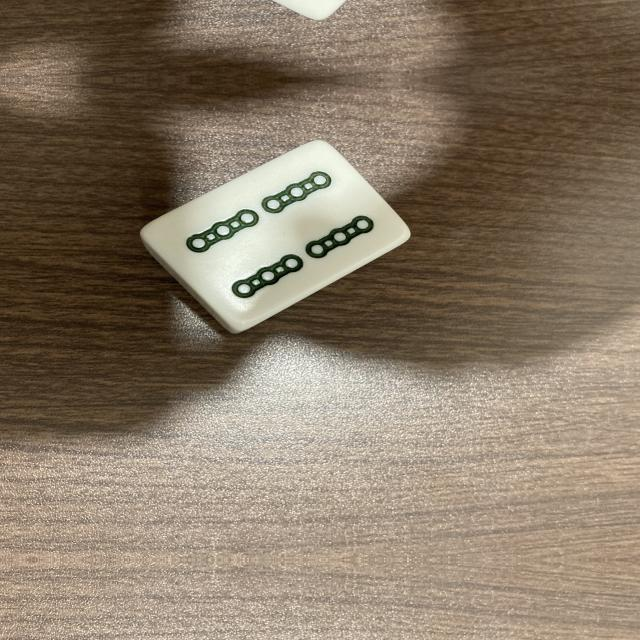s4: (162, 141, 405, 327)
